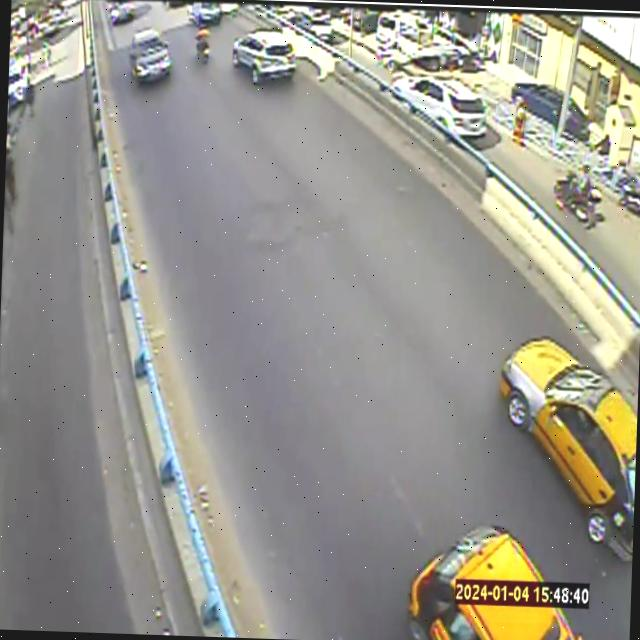car: (499, 337, 636, 559), (409, 525, 588, 640), (130, 28, 171, 81), (265, 42, 293, 56)
